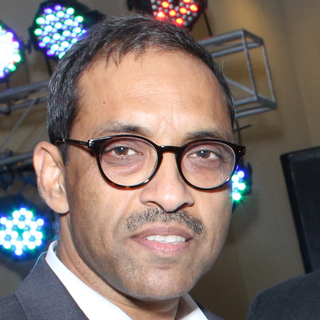eye: (179, 138, 229, 172), (100, 138, 149, 169)
